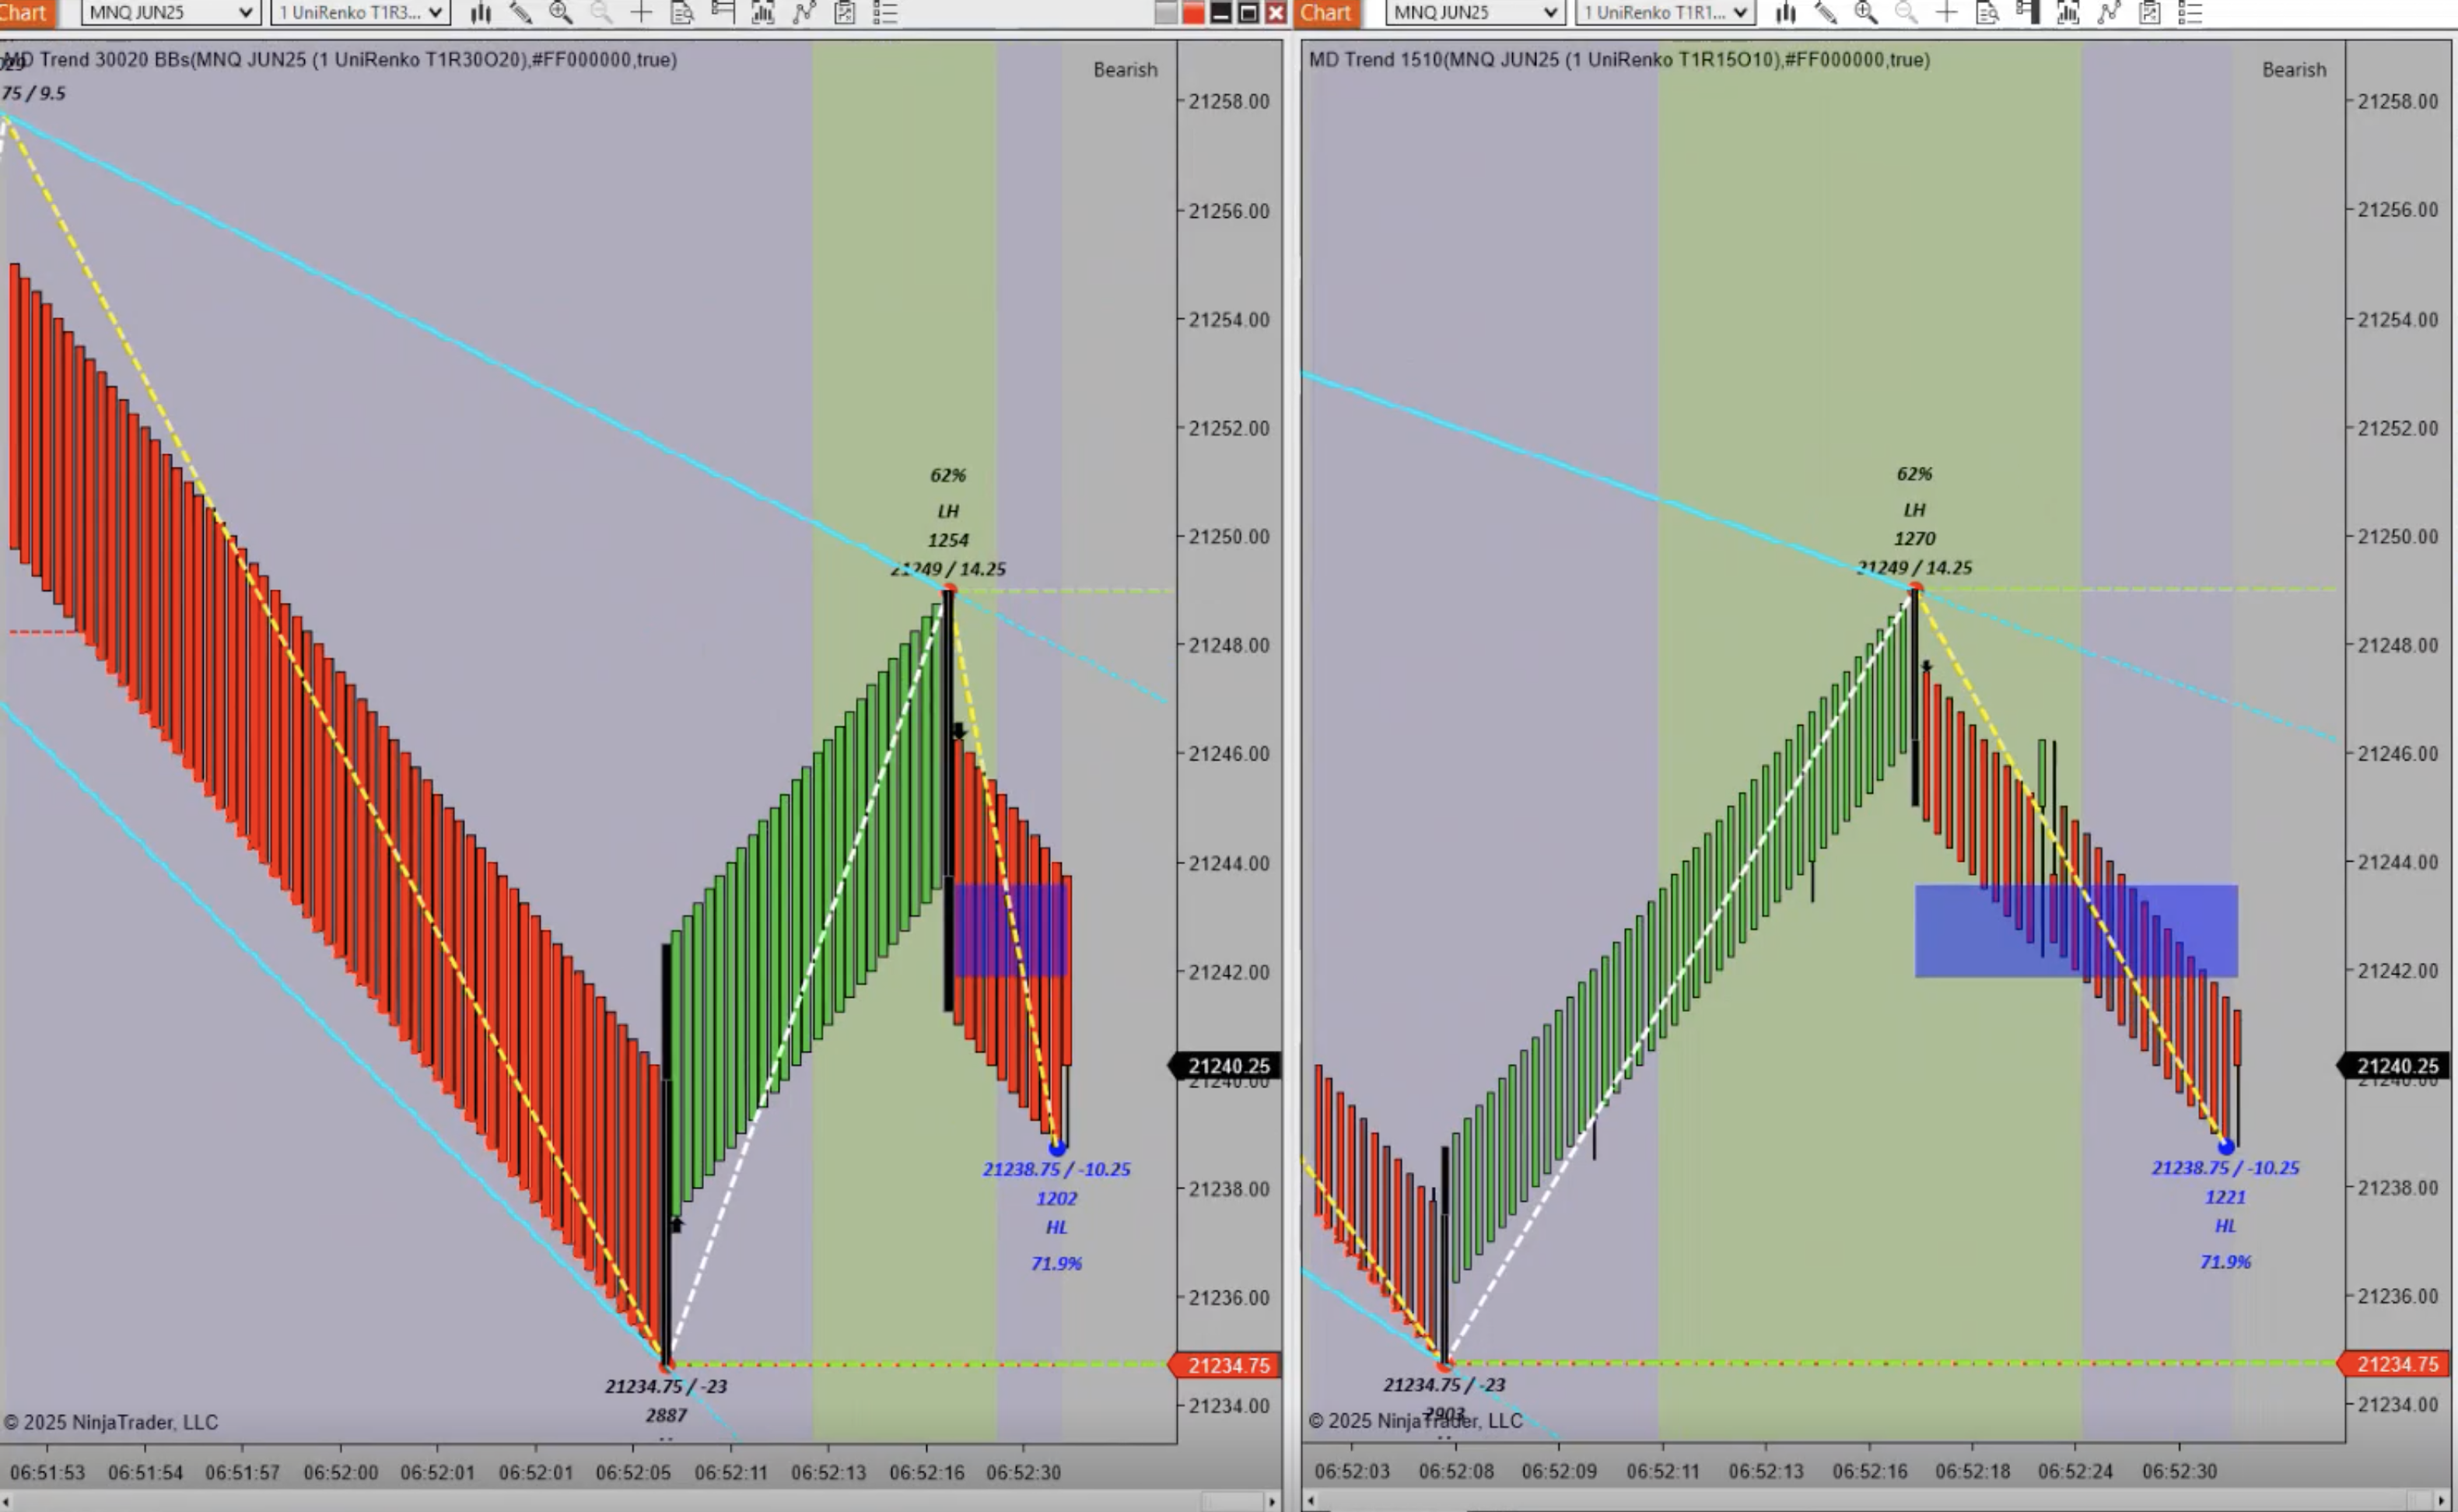candle: (943, 587, 962, 1020), (658, 940, 671, 1366), (1438, 1141, 1452, 1363), (1912, 587, 1924, 811)
